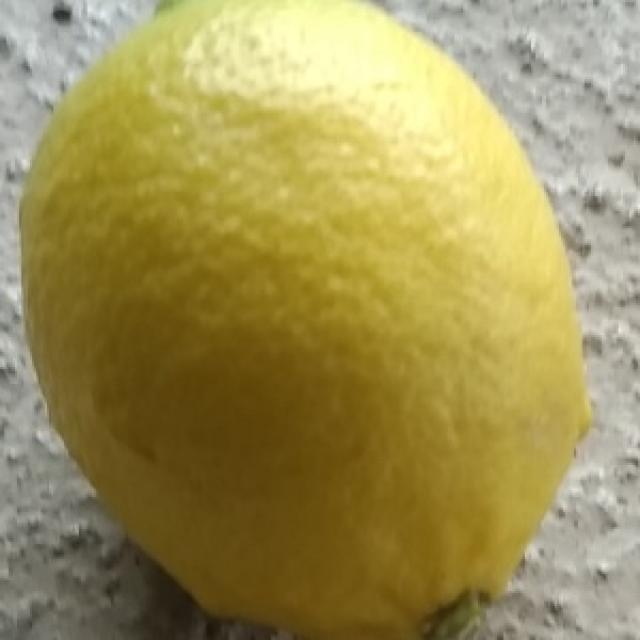Lemon: (17, 0, 597, 640)
